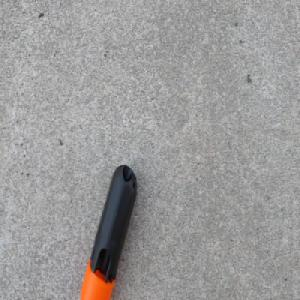PlasticPart: (80, 163, 139, 300)
